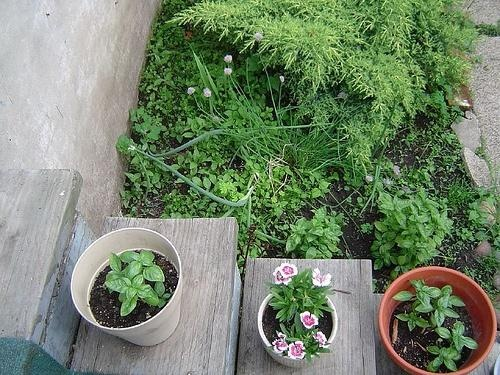pottedplant: (68, 223, 182, 347), (379, 269, 495, 373), (256, 266, 337, 365)
